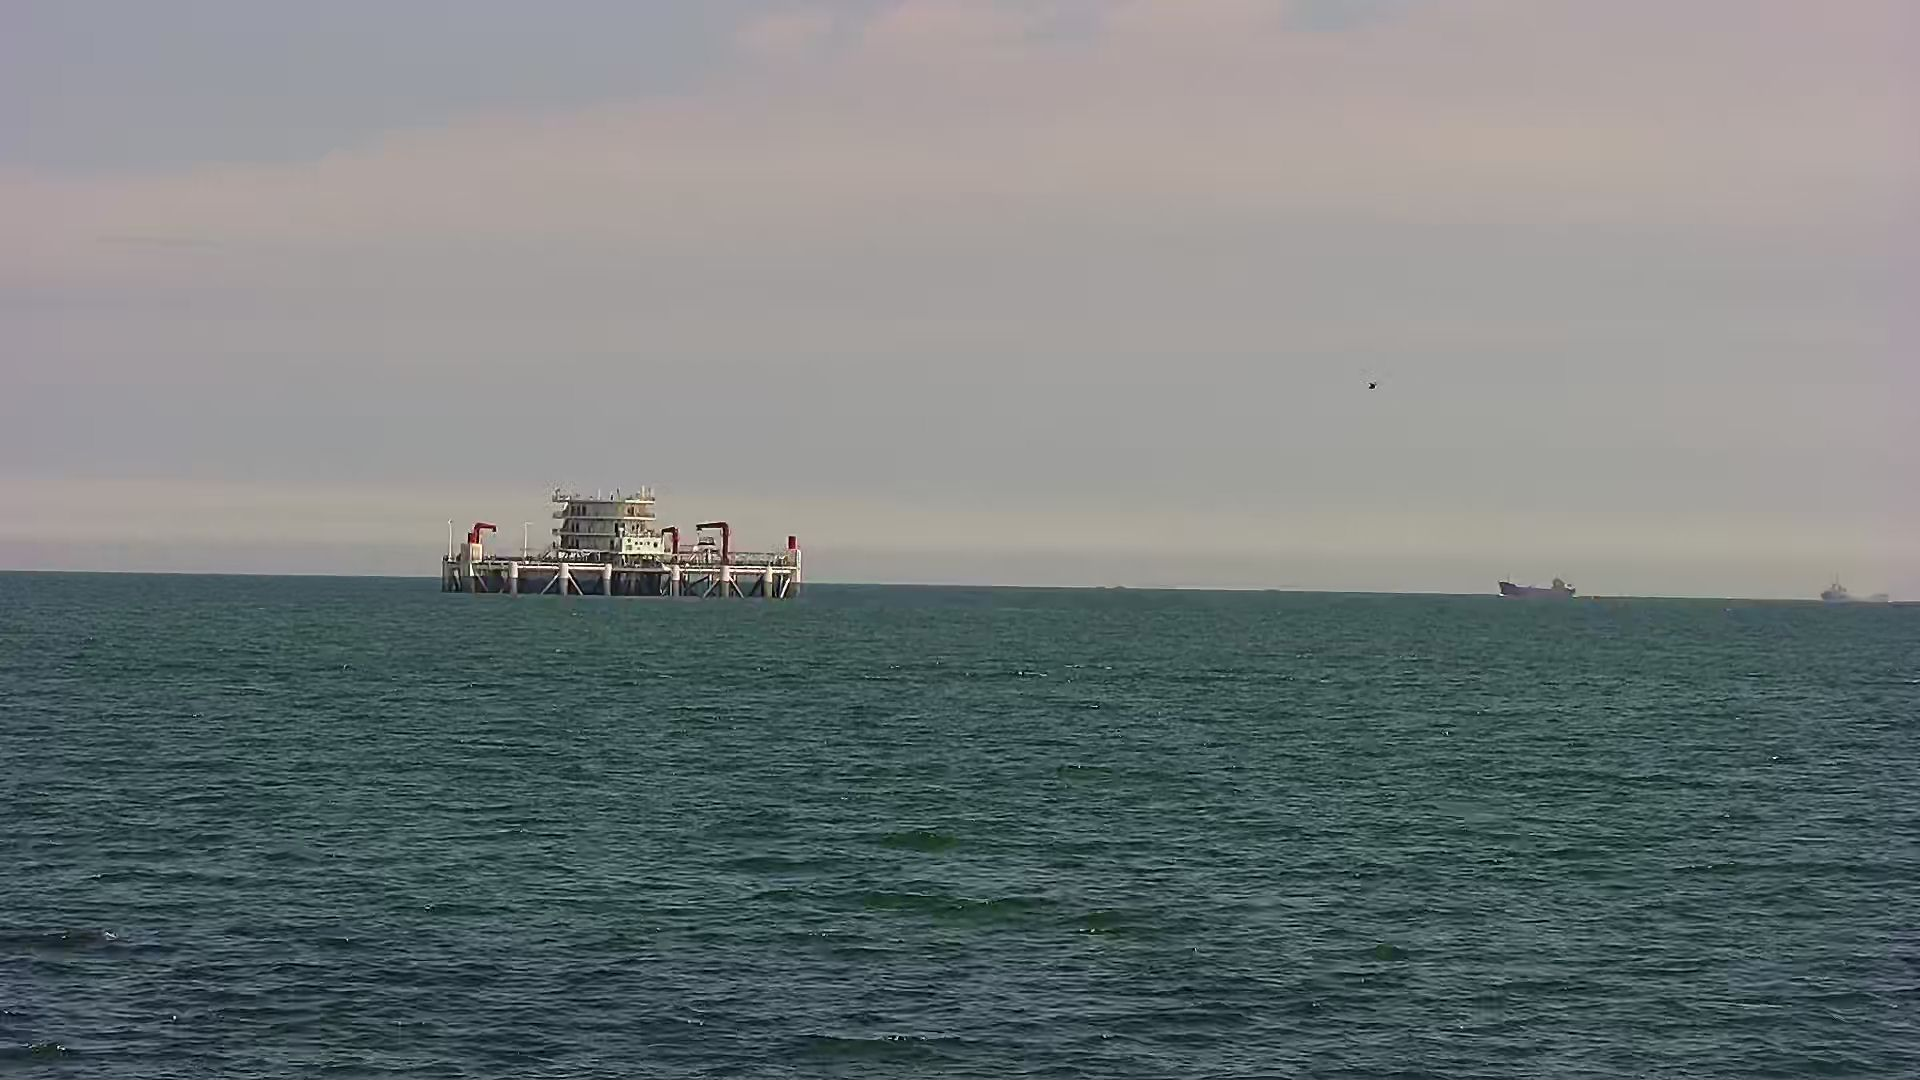platform: (401, 484, 831, 607)
ship: (1486, 566, 1598, 607), (1815, 571, 1904, 612)
